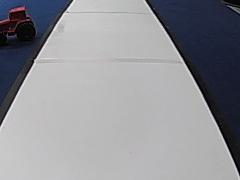Tracktor: (0, 3, 37, 42)
